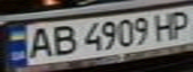0: (115, 16, 139, 48)
4: (78, 19, 103, 53)
9: (130, 14, 154, 45), (100, 19, 121, 52)
A: (21, 25, 57, 61)
B: (48, 22, 78, 56)
H: (148, 10, 181, 42)
P: (166, 7, 193, 39)
